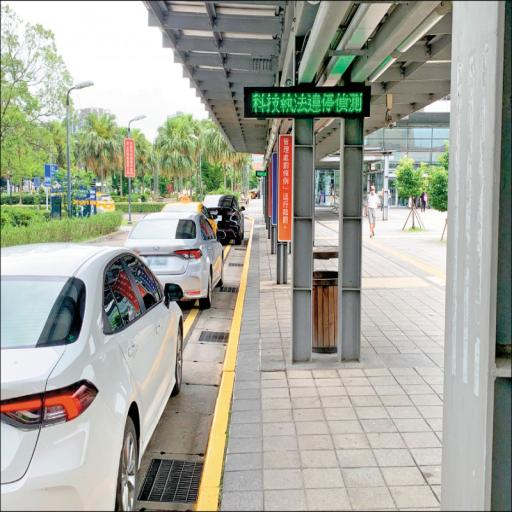car: (0, 227, 186, 510), (122, 203, 226, 311)
yellowline: (188, 216, 256, 511)
